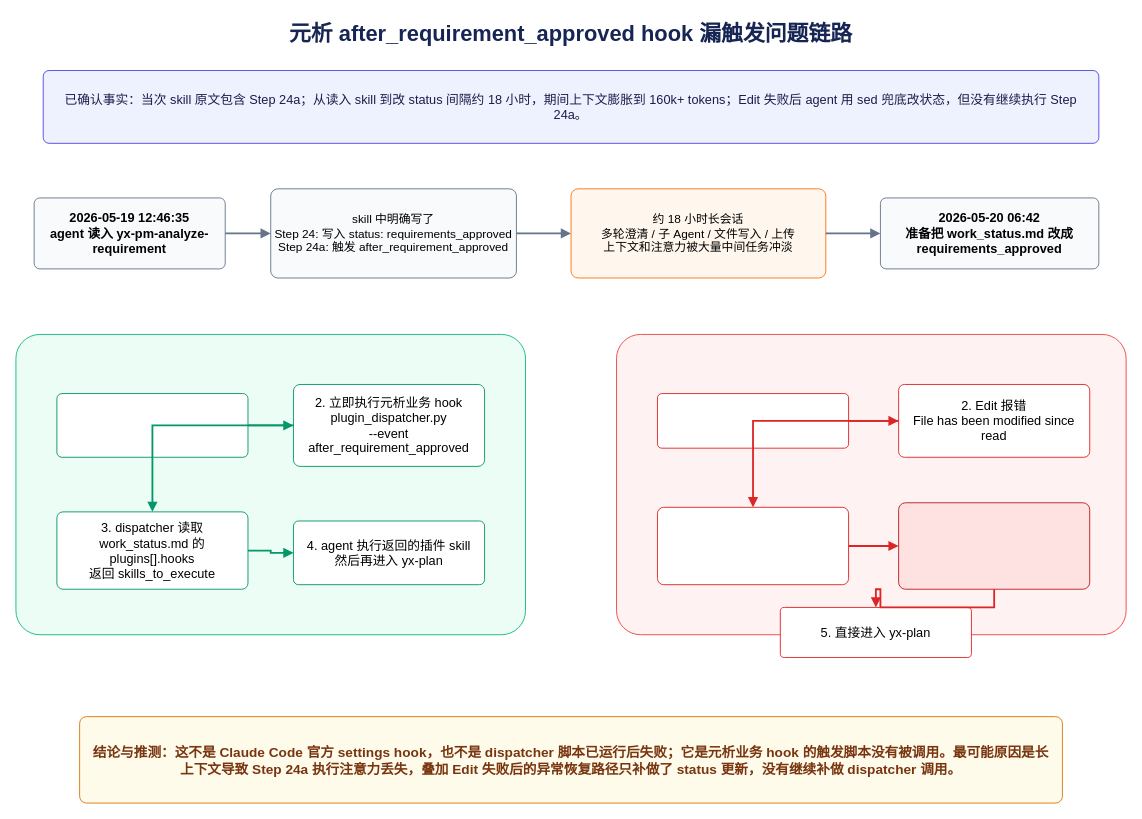
Image size: 1142x819. Some labels were removed from this diagram. Each missing label, with the box of its shape:
1. Edit 尝试改 status: (657, 393, 849, 448)
1. Edit/写入 work_status.md status: requirements_approved: (56, 393, 248, 457)
3. agent 用 sed 兜底 status 已成功变成 requirements_approved: (657, 506, 849, 585)
4. 漏掉 Step 24a 没有调用 plugin_dispatcher.py --event after_requirement_approved: (898, 502, 1090, 589)
实际日志路径: (616, 334, 1126, 635)
正常应执行路径: (15, 334, 526, 635)
